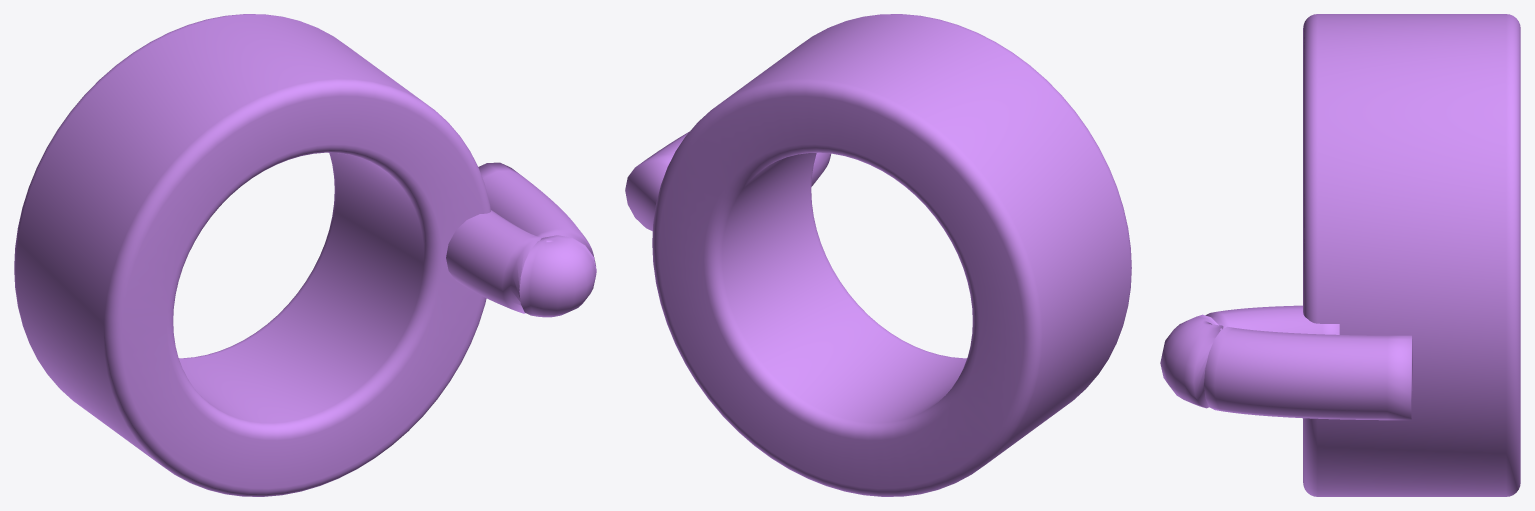
The model's file is clasp-BcJglC8O.glb.
3 views of the same model, side by side, from view 1: azimuth 30°, elevation 25°; view 2: azimuth 150°, elevation 25°; view 3: azimuth 270°, elevation 25° (orthographic). The views are drawn at different scales.
Visible parts, largest first — view 1: R3D_Clasp; view 2: R3D_Clasp; view 3: R3D_Clasp.
Boxes of the visible parts, left/top/right/bottom form: R3D_Clasp: left=14, top=14, right=596, bottom=496; R3D_Clasp: left=625, top=14, right=1131, bottom=496; R3D_Clasp: left=1160, top=14, right=1520, bottom=496.
Size of the model in its own units: 0.475 by 0.4 by 0.2982.
